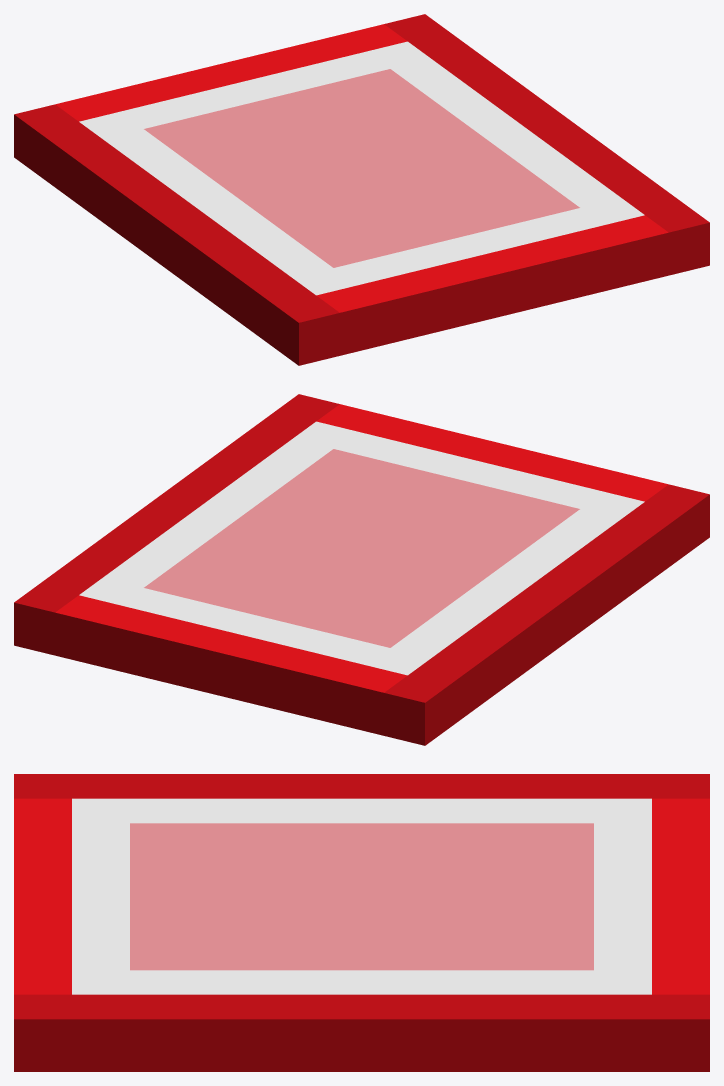
The model's file is plat.fbx.
3 renders of one model, top to bottom at view 1: azimuth 30°, elevation 25°; view 2: azimuth 150°, elevation 25°; view 3: azimuth 270°, elevation 25°, orthographic. The views are drawn at different scales.
Parts seen in each view (by area): view 1: Platform; view 2: Platform; view 3: Platform.
Boxes of the visible parts, <box> form: Platform: <box>14,14,709,365</box>; Platform: <box>14,394,709,745</box>; Platform: <box>14,774,709,1071</box>.
Bounding box in the file's own units: 10 × 1 × 12.
